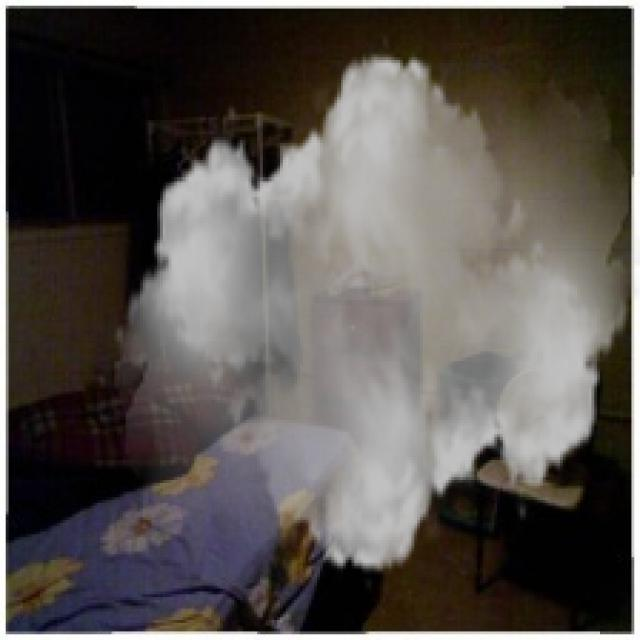Smoke: (114, 31, 637, 598)
